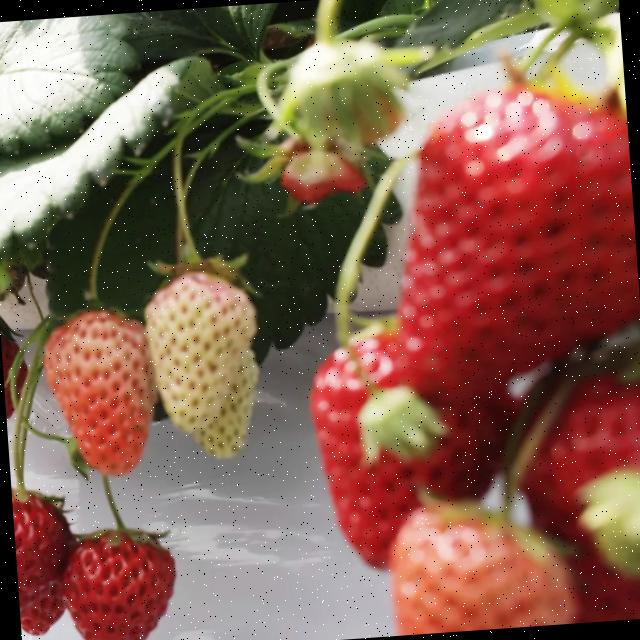Ripe Strawberry: (387, 83, 640, 384), (307, 328, 519, 574), (517, 375, 640, 545), (60, 531, 180, 640), (12, 490, 81, 635), (560, 543, 640, 623), (0, 322, 31, 414)
